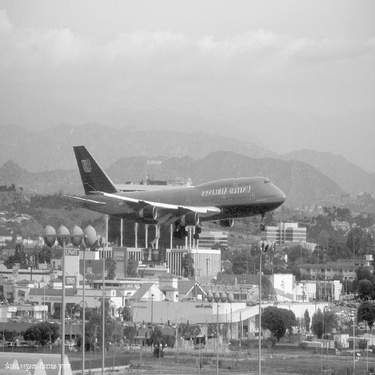airplane: (43, 126, 299, 251)
